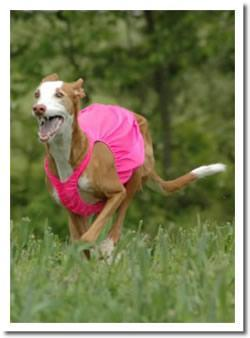Ibizan_hound: (30, 72, 226, 257)
